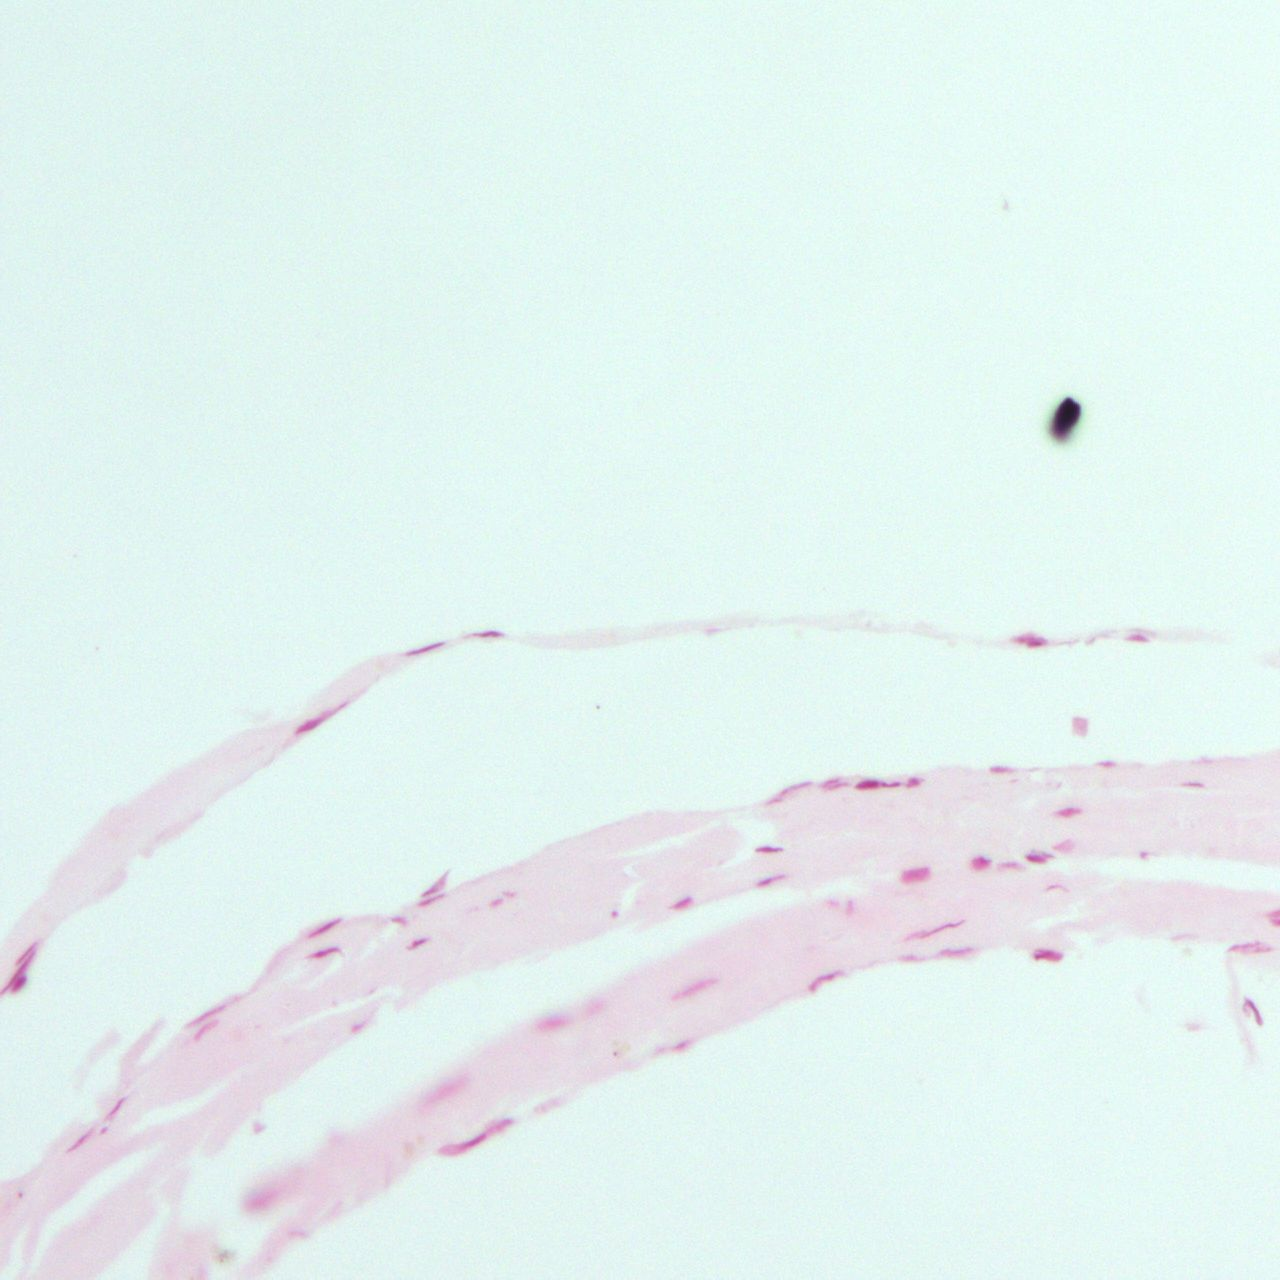dust: (1050, 394, 1083, 442), (212, 1247, 237, 1262), (611, 1050, 620, 1057), (594, 704, 600, 710)
nucleus-AC: (437, 1114, 518, 1160), (292, 702, 343, 737), (912, 915, 966, 942), (765, 778, 815, 806), (670, 976, 719, 1003), (806, 966, 845, 995), (185, 1001, 225, 1029), (62, 1126, 97, 1157), (404, 636, 447, 661), (417, 869, 452, 898), (536, 1009, 571, 1036), (1240, 994, 1266, 1030), (98, 1094, 129, 1124), (307, 915, 343, 939), (898, 865, 933, 886), (1012, 632, 1048, 649), (14, 941, 39, 967), (853, 778, 901, 791), (416, 890, 447, 910), (192, 1017, 217, 1041), (1228, 942, 1272, 955), (305, 946, 341, 961), (406, 933, 433, 953), (8, 973, 30, 995), (935, 947, 978, 959), (1053, 838, 1078, 857), (667, 1037, 694, 1054), (670, 896, 694, 914), (756, 873, 784, 888), (1033, 949, 1065, 962), (1069, 717, 1090, 737), (1024, 851, 1051, 865), (1169, 930, 1197, 942), (971, 855, 990, 872), (1043, 883, 1073, 894), (1187, 755, 1219, 765), (469, 629, 503, 639), (821, 778, 850, 789), (753, 845, 784, 855), (989, 764, 1017, 775), (1182, 779, 1207, 790), (1056, 806, 1080, 817), (488, 896, 506, 908), (999, 862, 1024, 871), (899, 954, 922, 964), (1128, 634, 1150, 644), (1095, 758, 1114, 769), (350, 1021, 367, 1033), (1139, 851, 1153, 864), (390, 915, 408, 925), (907, 776, 922, 787), (846, 900, 853, 915), (610, 911, 617, 918)
